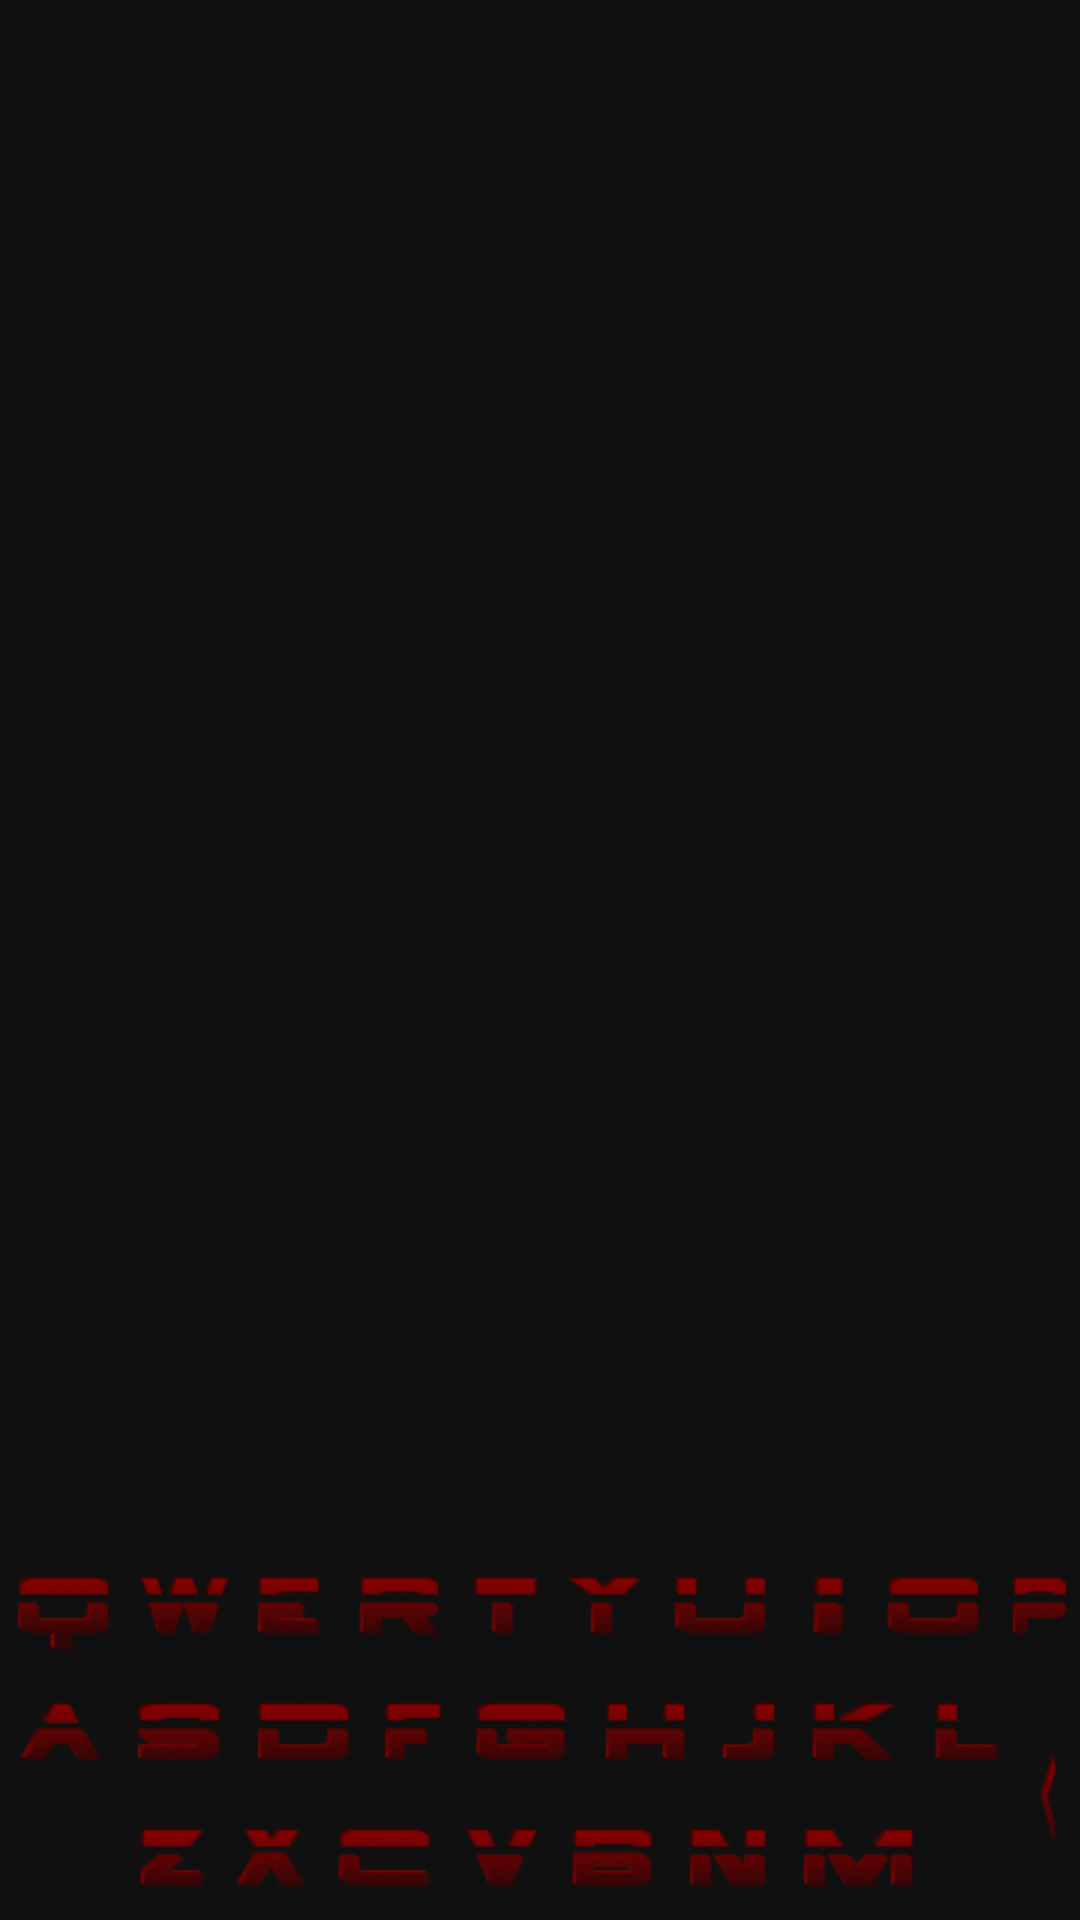

Icon bounding boxes for this 1080*1920 phone screenshot, format (x1,y1,x2,y2):
left: (1041,1755,1056,1838)
